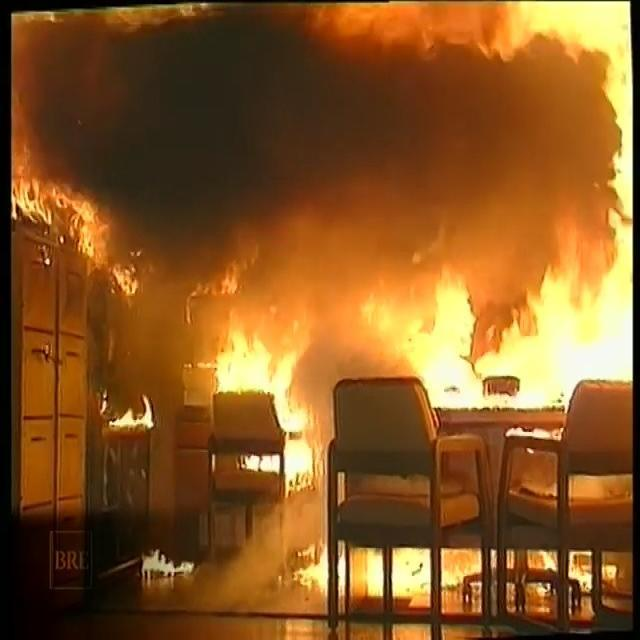Fire: (9, 5, 640, 430)
